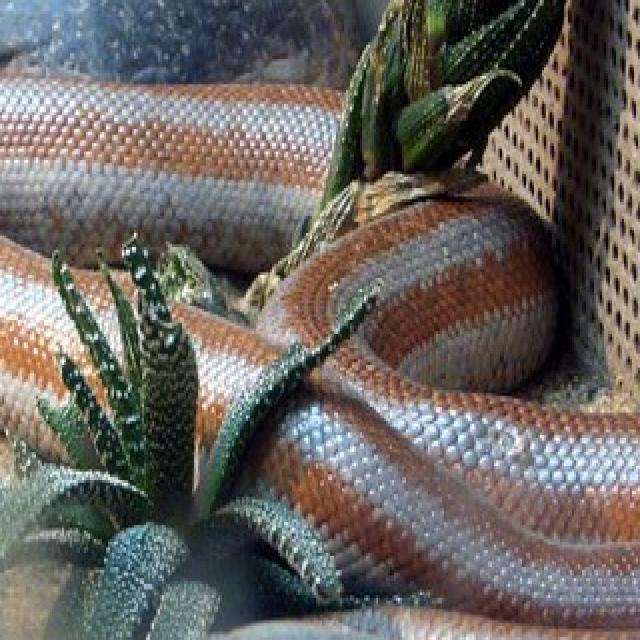snake: (0, 53, 640, 640)
